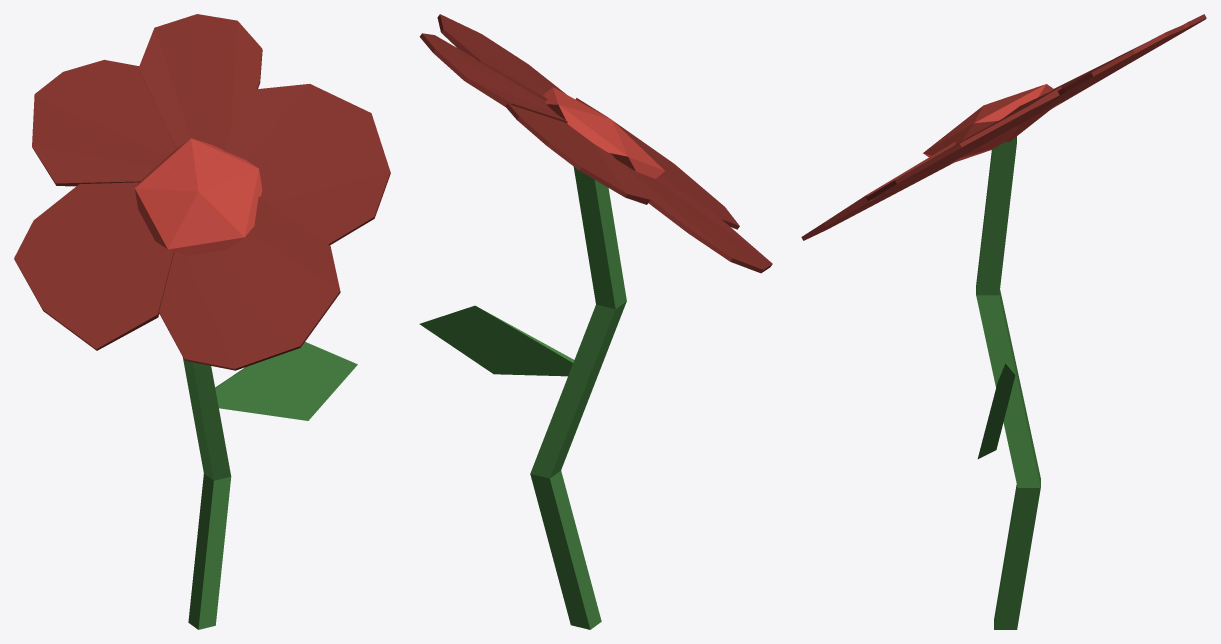
The model's file is Flower_2_Red.fbx.
3 views of the same model, side by side, from view 1: azimuth 30°, elevation 25°; view 2: azimuth 150°, elevation 25°; view 3: azimuth 270°, elevation 25° (orthographic). The views are drawn at different scales.
Visible parts, largest first — view 1: Flower_2_Red_Part_2, Flower_2_Red_Part_1, Flower_2_Red_Part_3; view 2: Flower_2_Red_Part_1, Flower_2_Red_Part_2, Flower_2_Red_Part_3; view 3: Flower_2_Red_Part_1, Flower_2_Red_Part_2, Flower_2_Red_Part_3.
Boxes of the visible parts, box(x1,y1,x2,y2) form: Flower_2_Red_Part_2: box(14, 14, 390, 370); Flower_2_Red_Part_1: box(183, 342, 357, 629); Flower_2_Red_Part_3: box(135, 138, 262, 255); Flower_2_Red_Part_1: box(419, 167, 626, 629); Flower_2_Red_Part_2: box(419, 14, 772, 273); Flower_2_Red_Part_3: box(543, 87, 664, 178); Flower_2_Red_Part_1: box(976, 136, 1040, 629); Flower_2_Red_Part_2: box(801, 14, 1206, 240); Flower_2_Red_Part_3: box(923, 84, 1054, 163).
Bounding box in the file's own units: 17.91 × 29.92 × 17.47.
